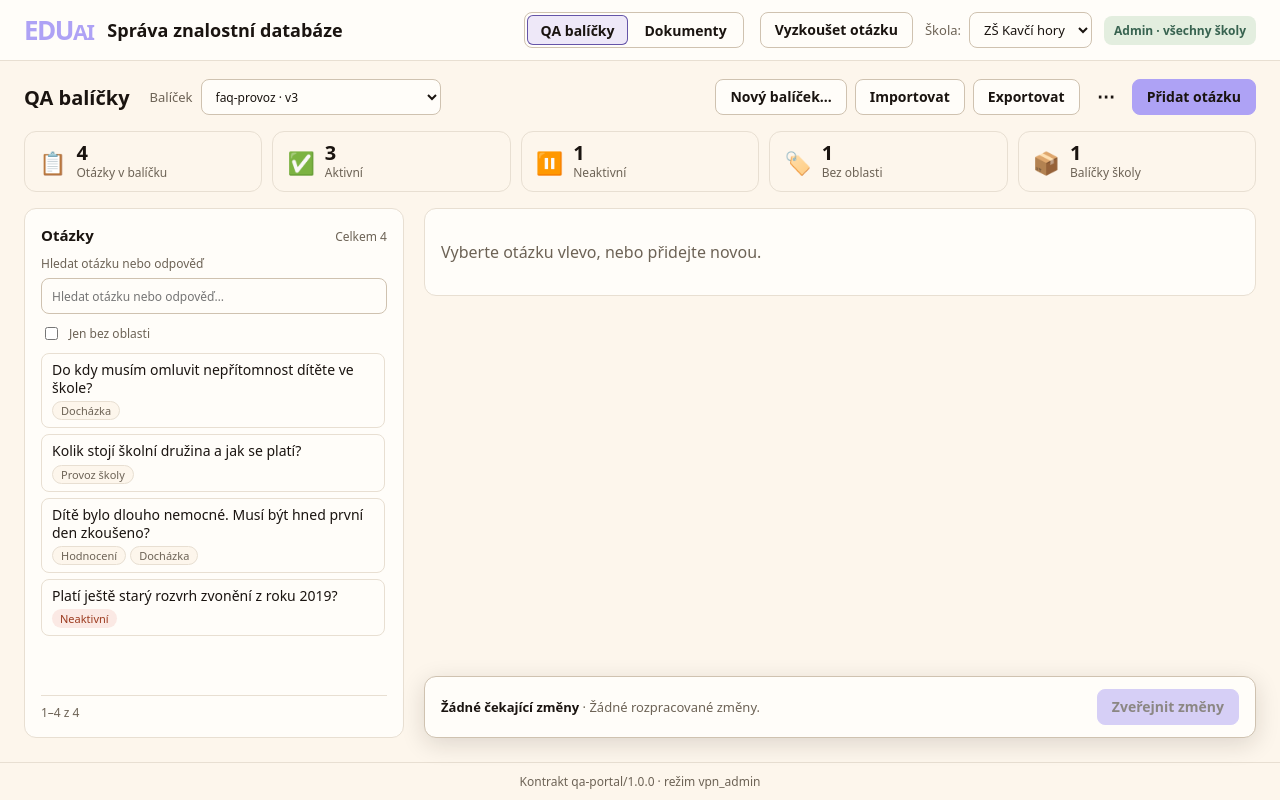
it: pack bar › keeps the permanent pack delete out of the main actions, in the overflow menu
Check: the text "Do kdy musím omluvit nepřítomnost dítěte ve škole?" is shown, box [52,361,374,397]
Check: the button "Nový balíček…" is shown, box [716,79,847,115]
Step 1. Click the button named "Další akce s balíčkem" → [1106, 97], box [1088,79,1124,115]
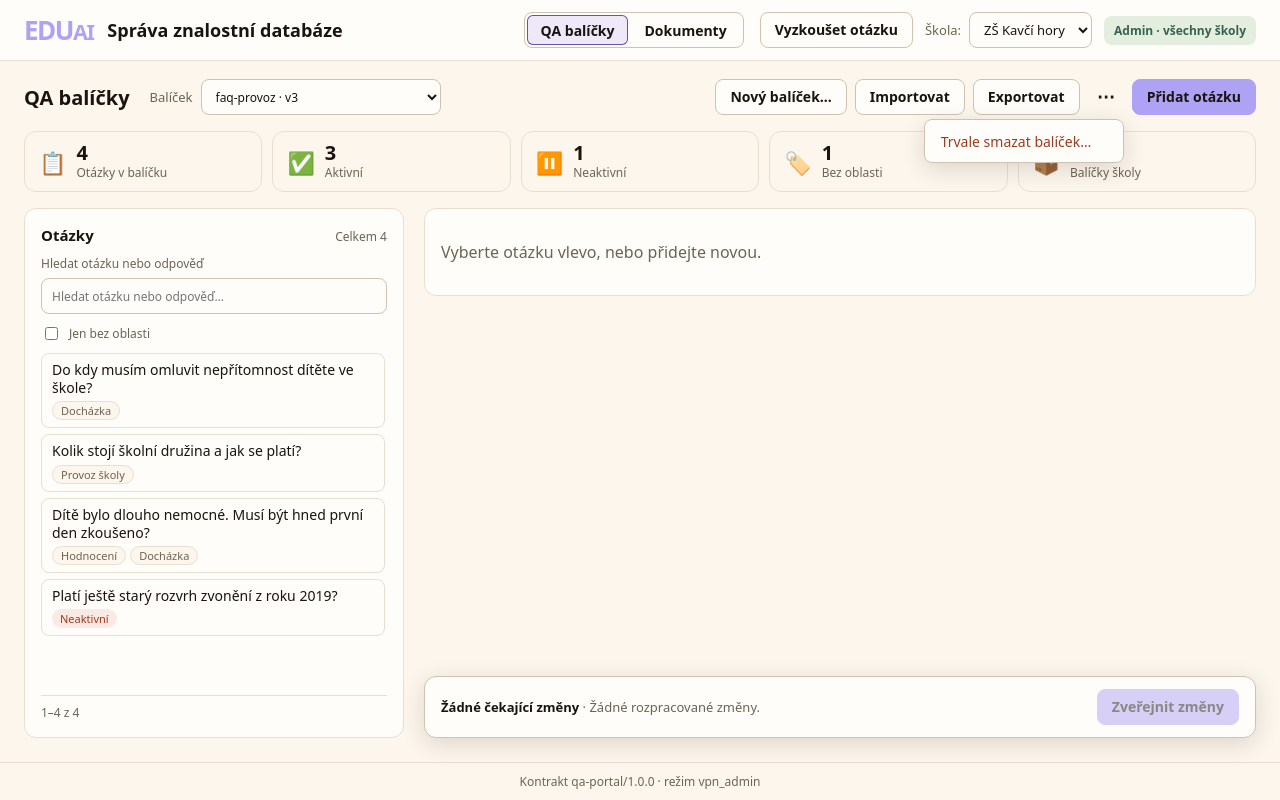
Check: the menu item "Trvale smazat balíček…" is enabled
Step 2. Click the menu item "Trvale smazat balíček…" → [1024, 141], box [929,124,1119,158]
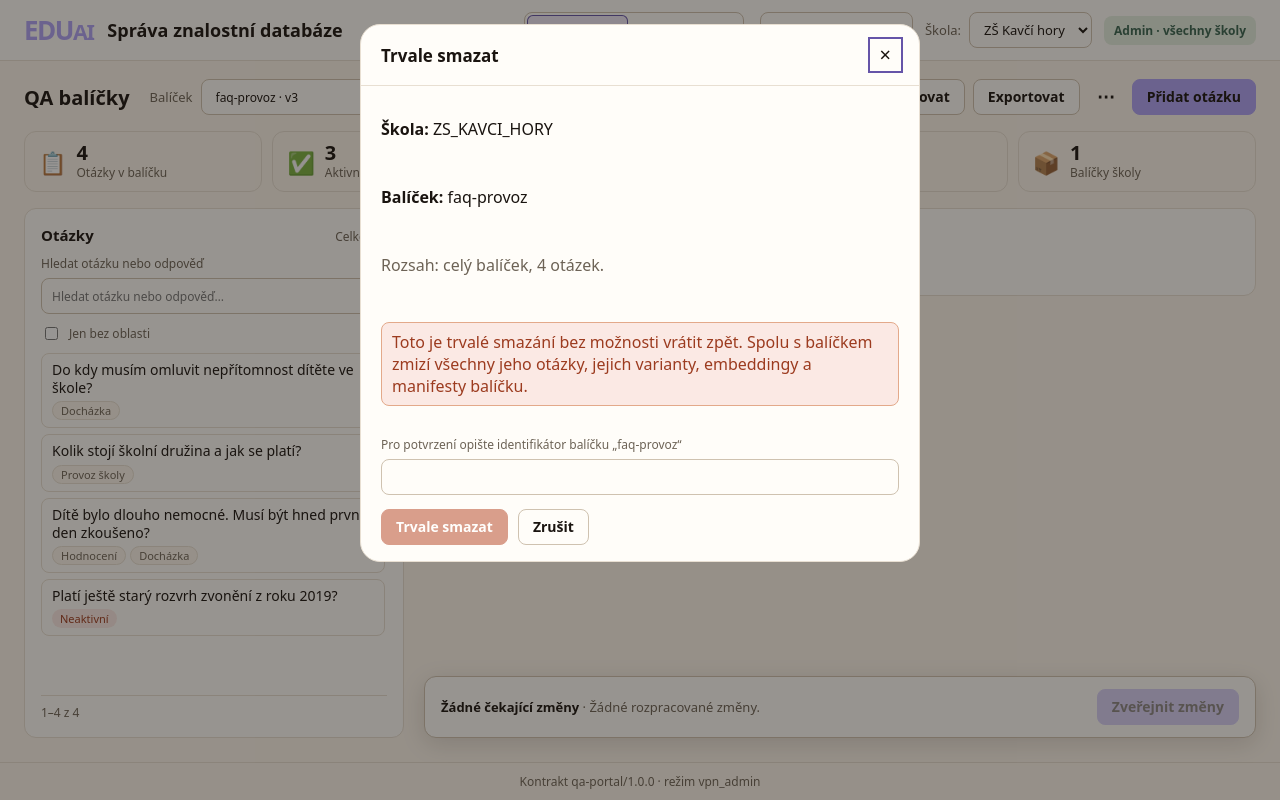
Check: the dialog "Trvale smazat" is shown, box [360,24,920,562]
